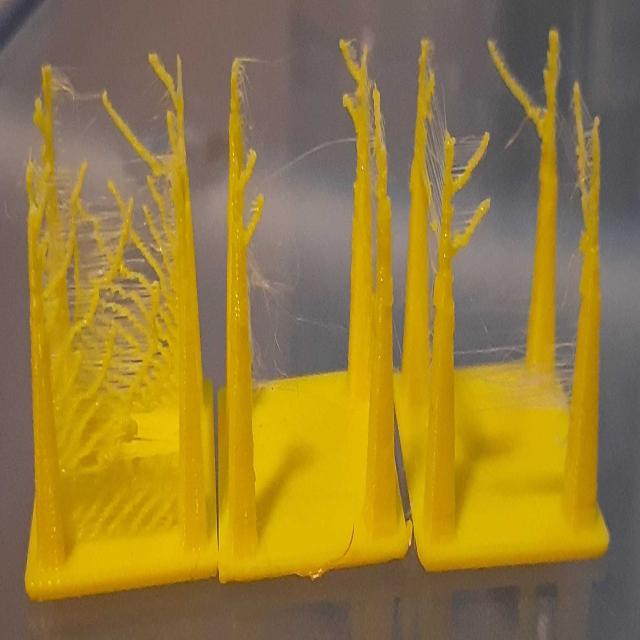Stringing: (40, 163, 176, 516), (48, 41, 172, 175), (479, 32, 544, 145), (452, 129, 492, 262), (419, 60, 445, 256), (563, 85, 590, 219), (238, 136, 266, 264), (331, 38, 362, 140)
